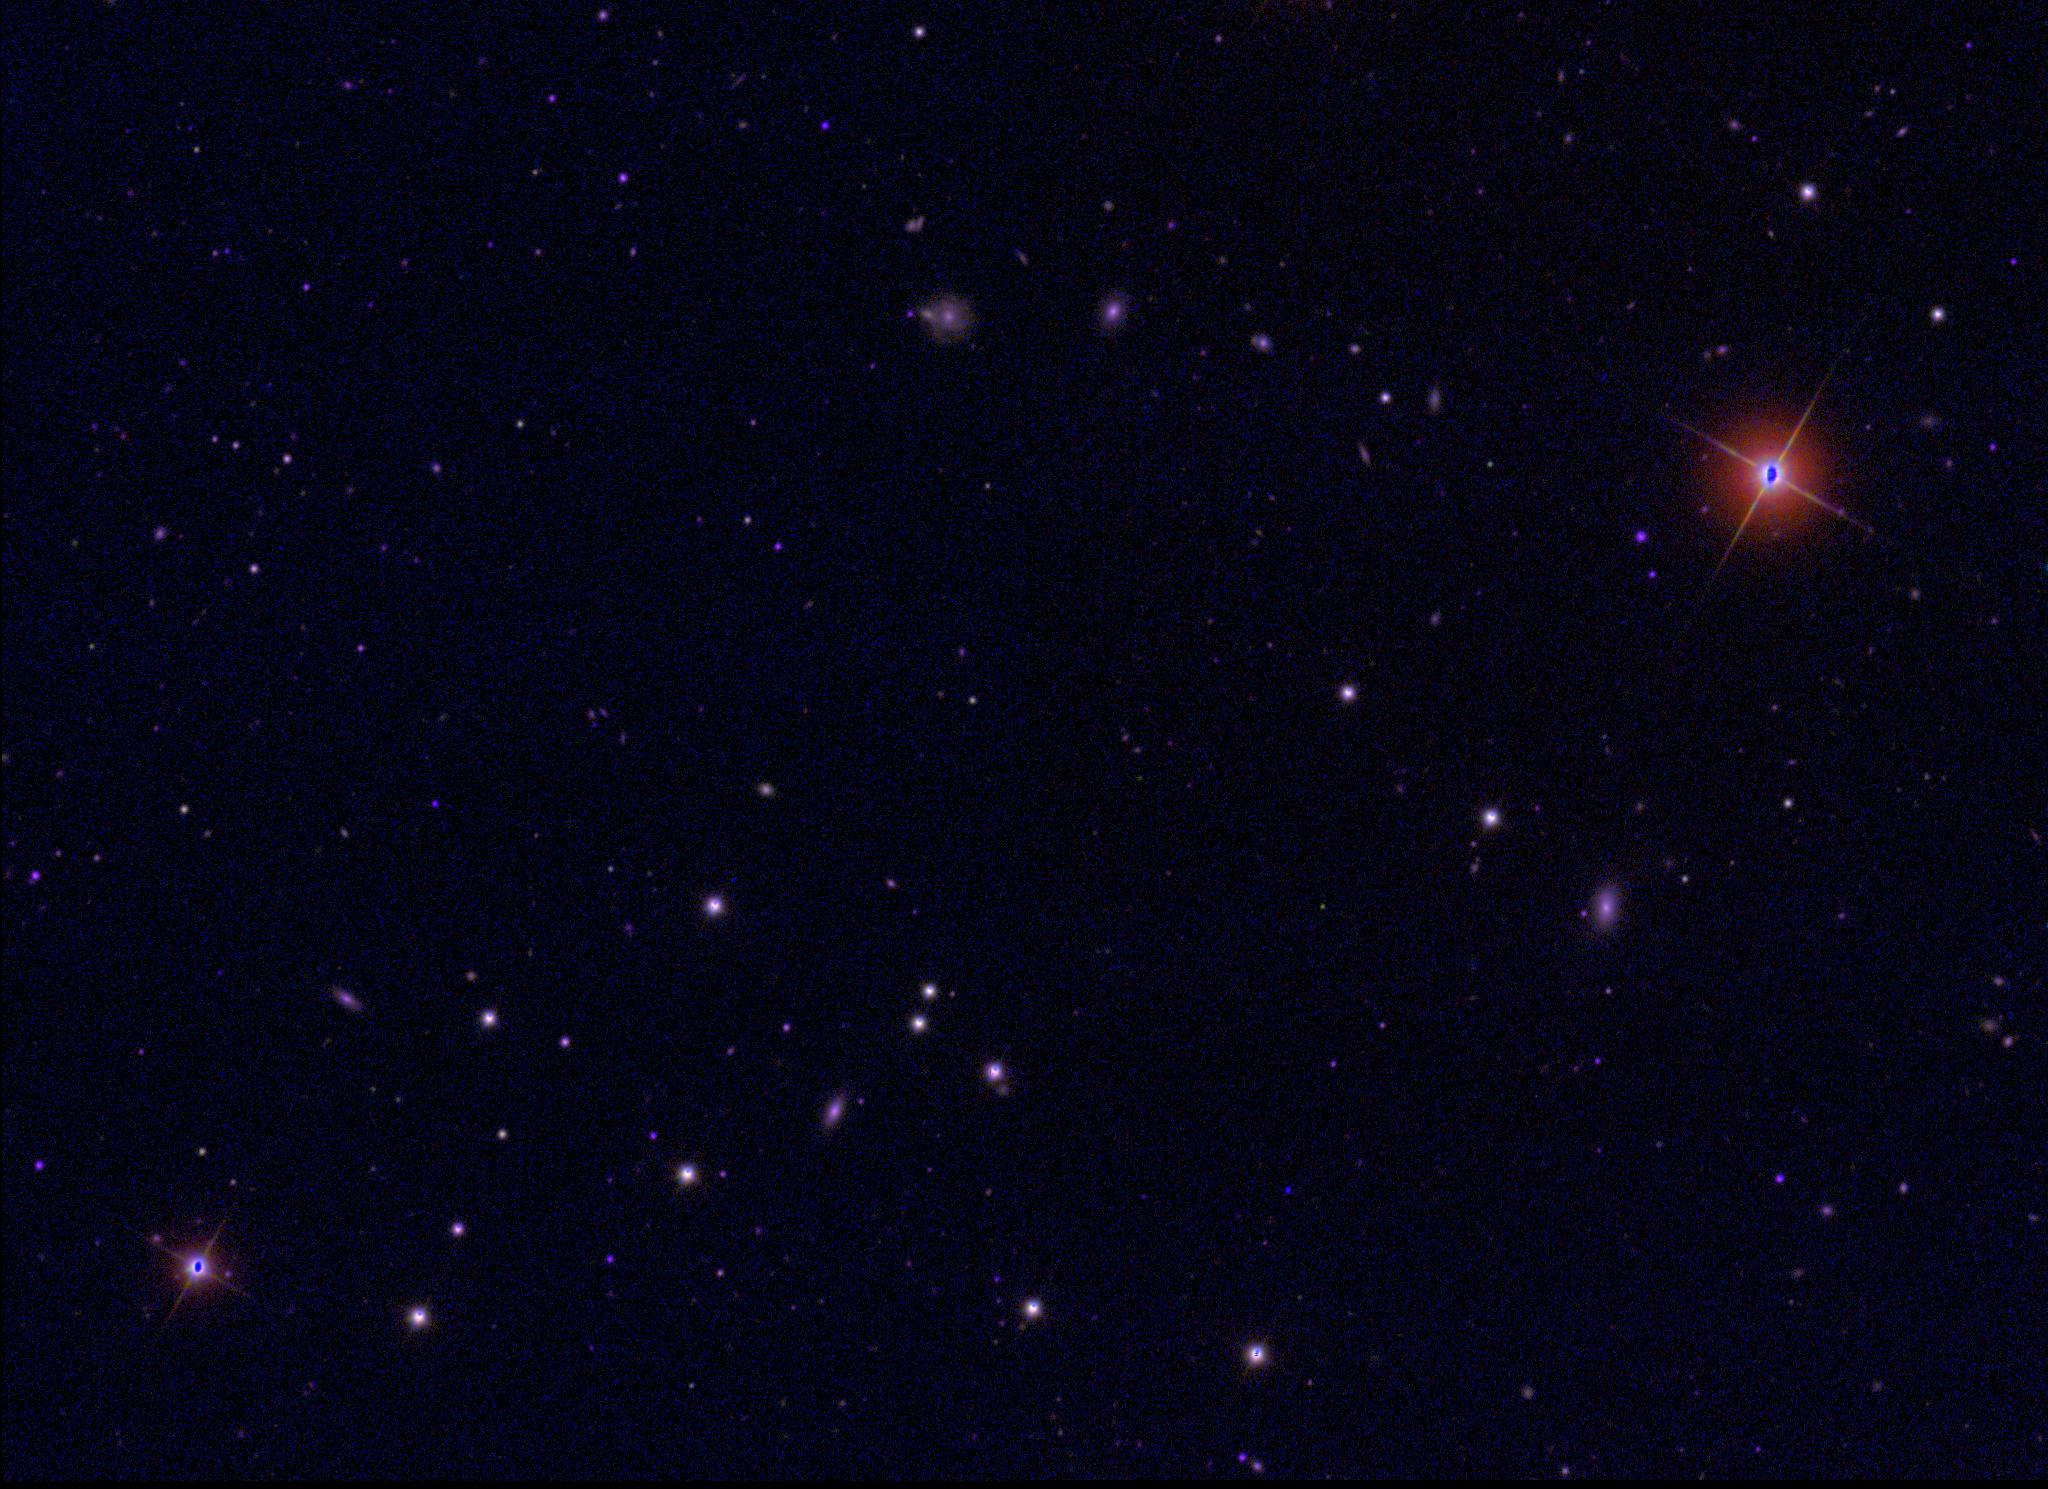L: (1282, 1184, 1294, 1196)
